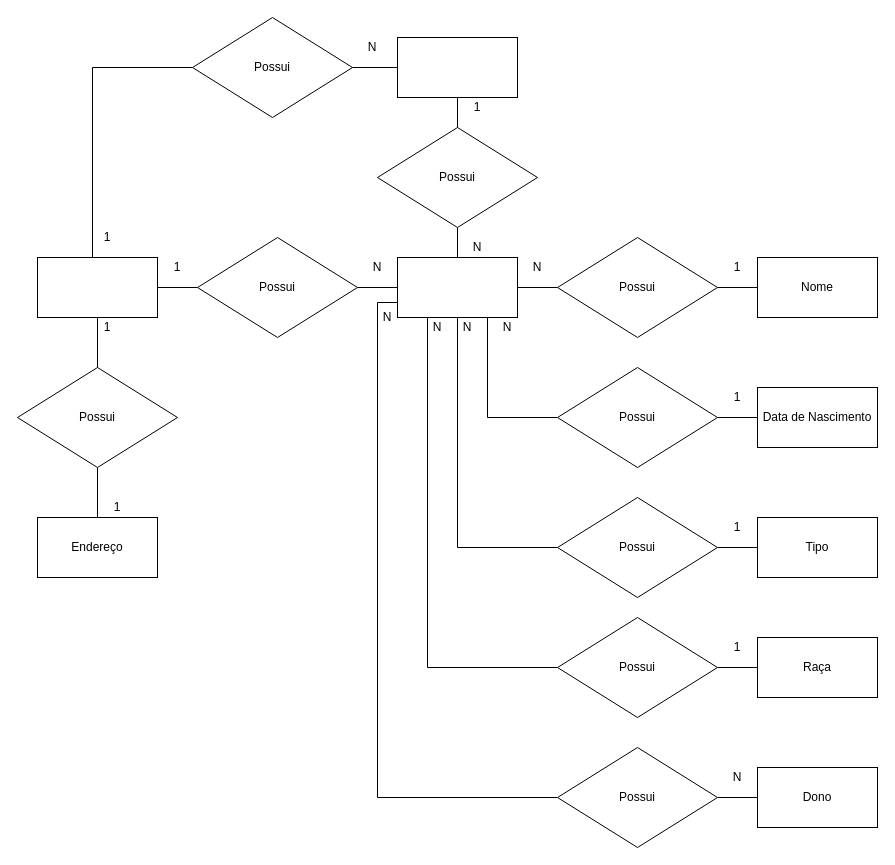
Image size: 895x865. Some labels were removed from this diagram. Each missing label, with the box of its shape:
Clínica Veterinária: (36, 256, 158, 318)
Pet: (396, 256, 518, 318)
Veterinário: (396, 36, 518, 98)
